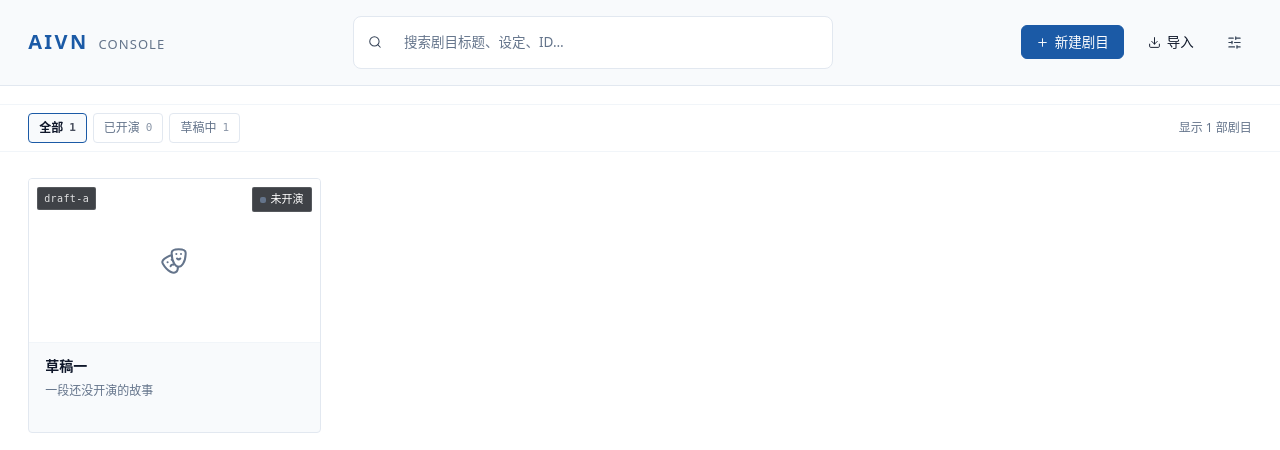
Scenario: 剧目库的空状态文案 › 已开演 + 关键词都没有命中：文案仍归关键词
The width and height of the screenshot is (1280, 450).
Check: the heading "草稿一" is shown, box [45,356,87,375]
Click the button "已开演 0" at x=128, y=128, box [93,113,163,143]
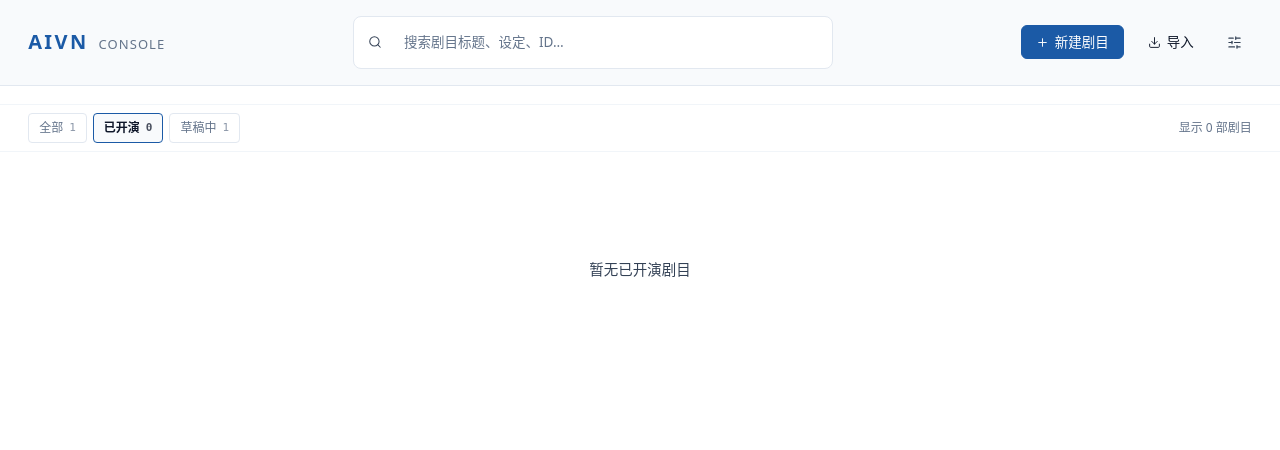
Type "不存在的剧" into the search field with placeholder "搜索剧目标题、设定、ID…" at x=605, y=42, box [392,23,818,62]
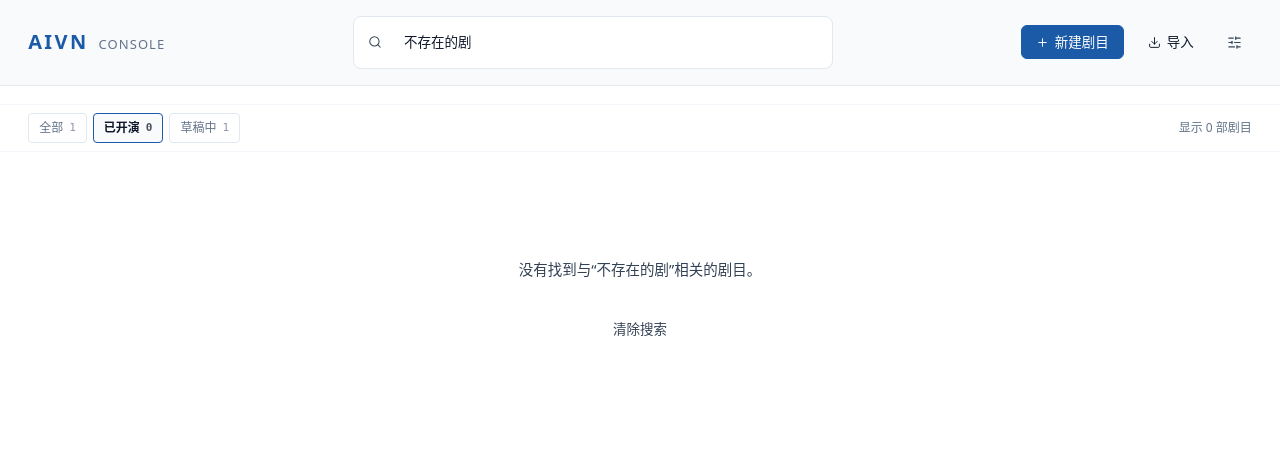
Check: the text "没有找到与“不存在的剧”相关的剧目。" is shown, box [519,257,761,281]
Check: the text "暂无已开演剧目" is gone
